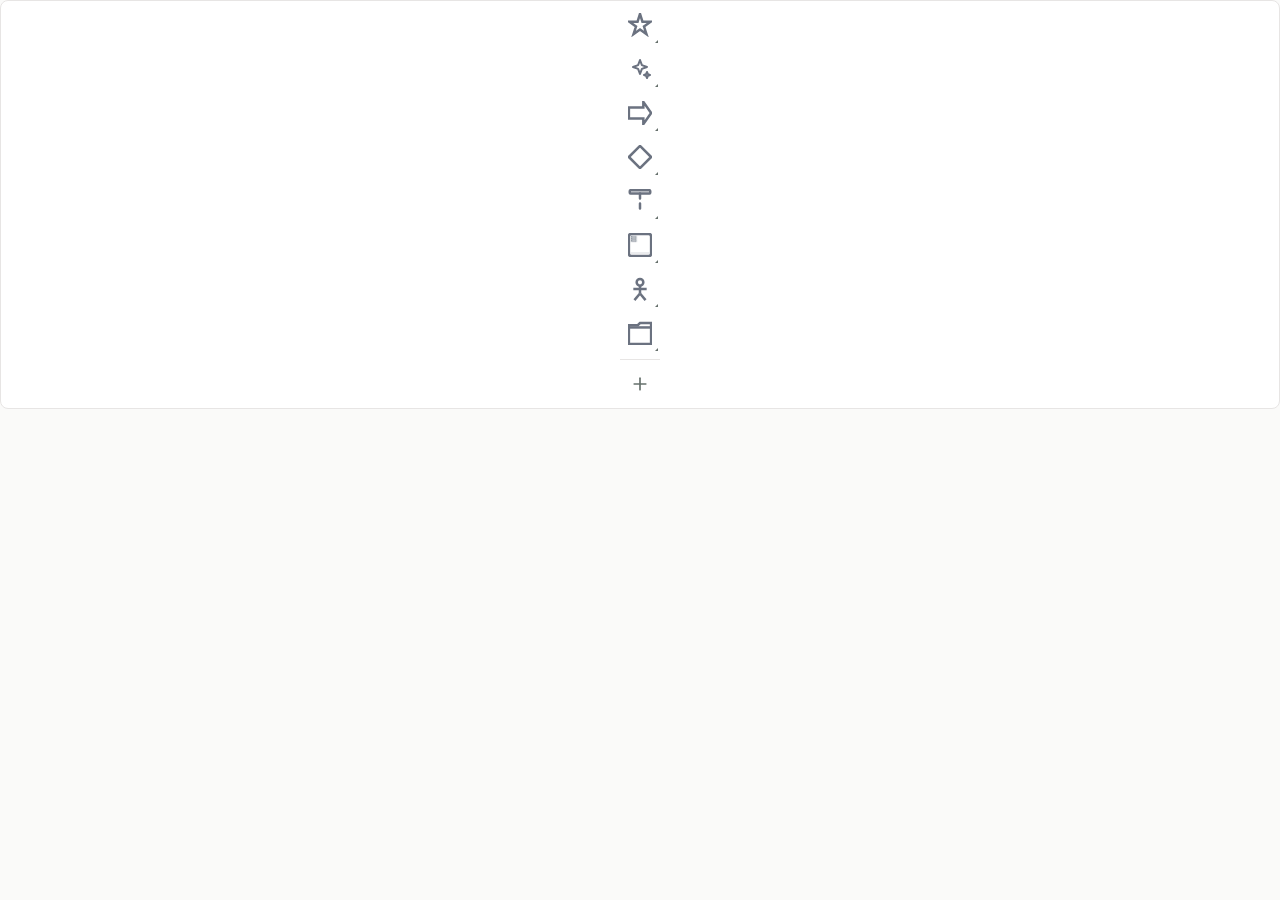
it: CollapsedElementsRail accessibility › closes compact element pickers when the canvas is dismissed
Step 1. Click the button named "Basic elements, Star selected" → (640, 25), box x1=620 y1=5 x2=660 y2=45
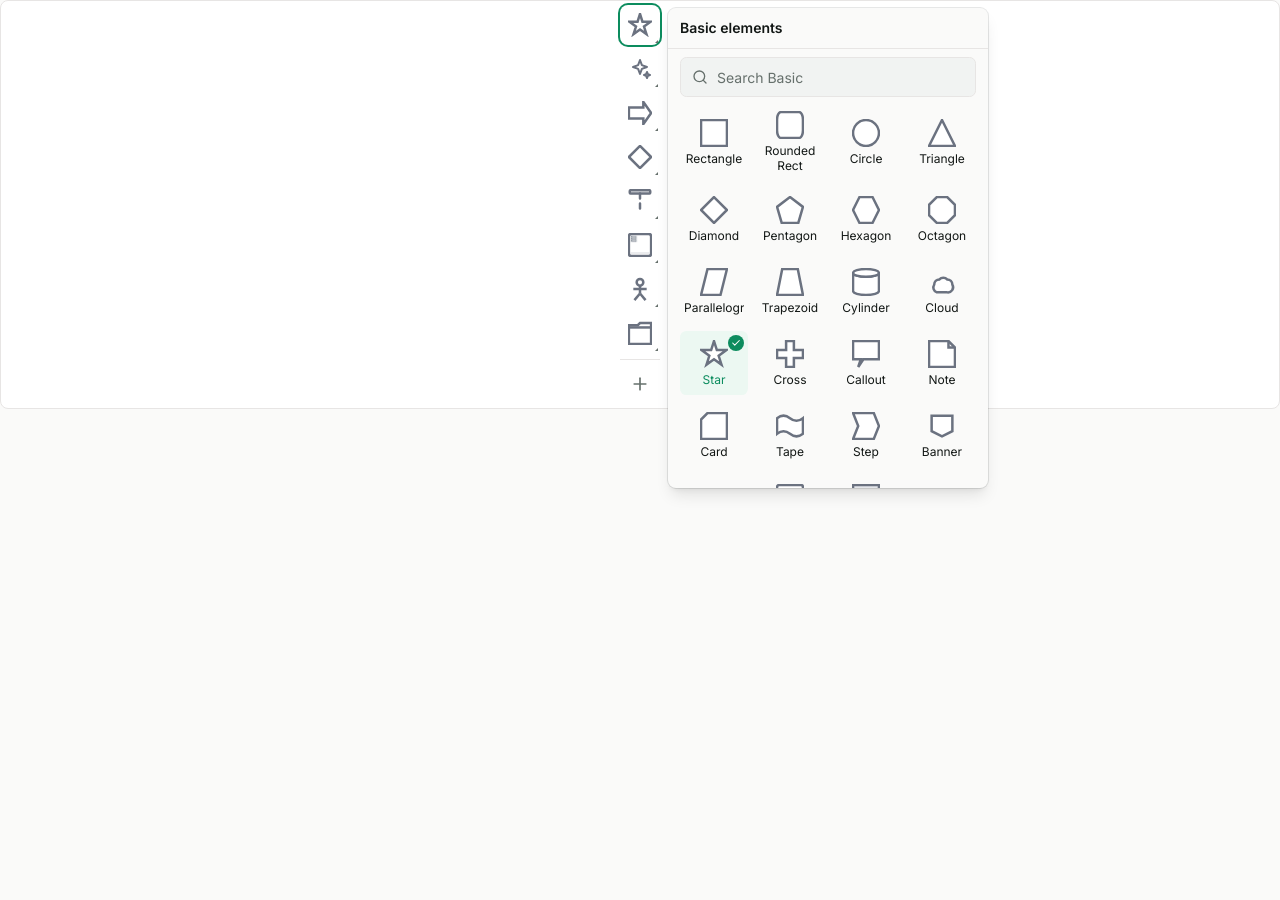
Now the dialog "Basic elements" is shown, box x1=668 y1=8 x2=988 y2=488
